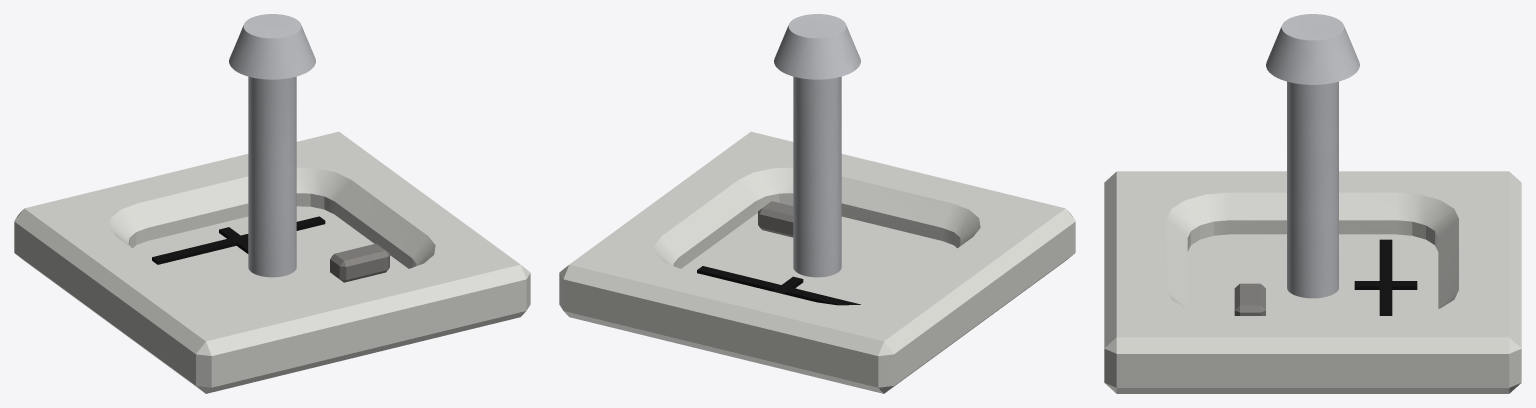
File: ax_util_06_grapple_fixture.glb
3 views of the same model, side by side, from view 1: azimuth 30°, elevation 25°; view 2: azimuth 150°, elevation 25°; view 3: azimuth 270°, elevation 25° (orthographic). The views are drawn at different scales.
Visible parts, largest first — view 1: base_plate, grapple_pin, cam_arm, target_cross; view 2: base_plate, grapple_pin, target_cross, cam_arm; view 3: base_plate, grapple_pin, target_cross, cam_arm.
Boxes of the visible parts, x1,y1,x2,y2 form: base_plate: (14,131,530,393); grapple_pin: (229,14,315,277); cam_arm: (330,243,389,282); target_cross: (152,216,325,264); base_plate: (559,131,1075,393); grapple_pin: (774,14,860,277); target_cross: (697,266,860,305); cam_arm: (758,201,793,237); base_plate: (1104,171,1521,393); grapple_pin: (1266,14,1359,298); target_cross: (1354,239,1417,315); cam_arm: (1234,283,1265,315).
Bounding box in the file's own units: 0.4 × 0.3 × 0.4.
Materials: 4 (2 with a texture image).
